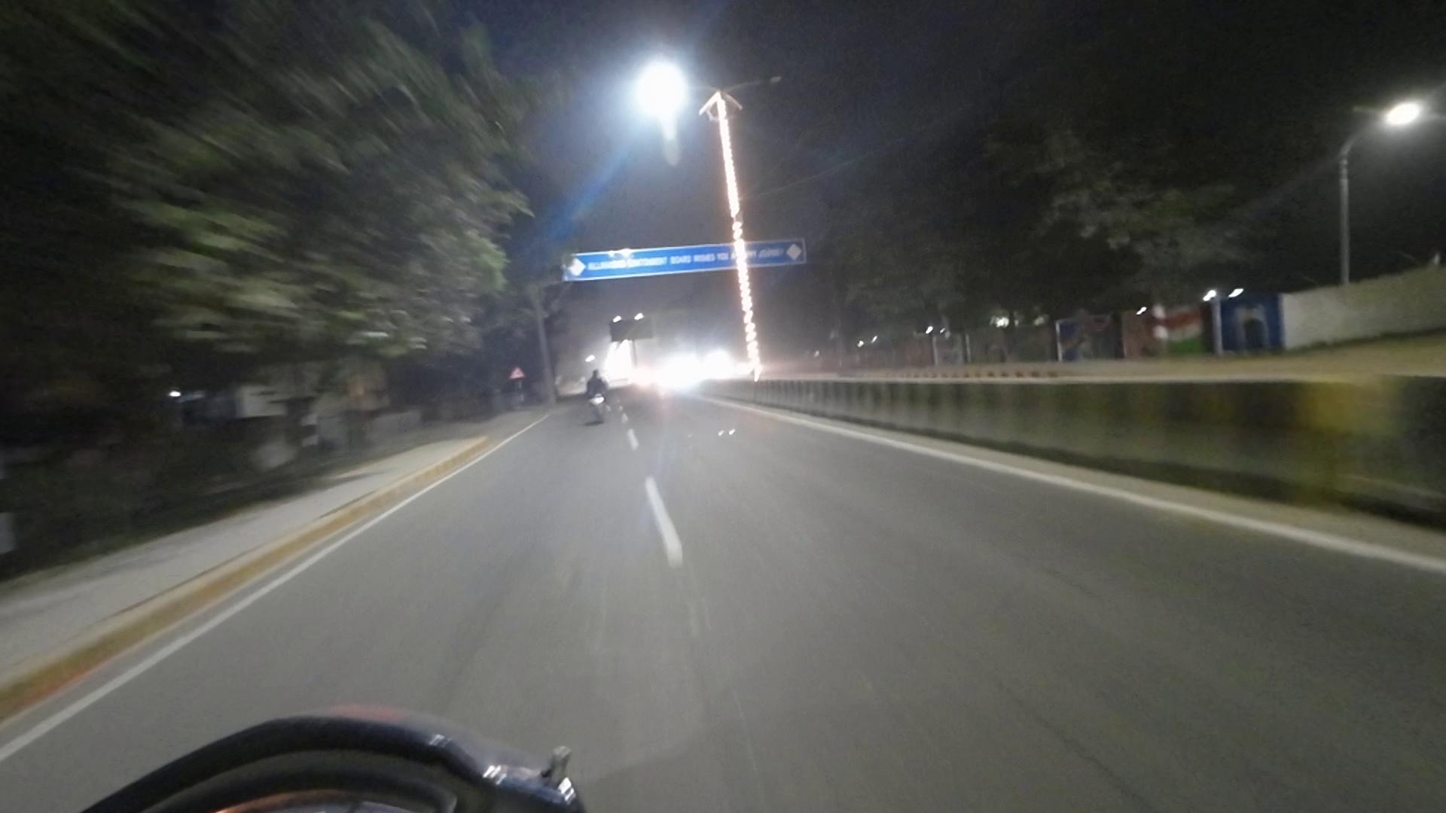streetlight: (733, 69, 787, 96)
